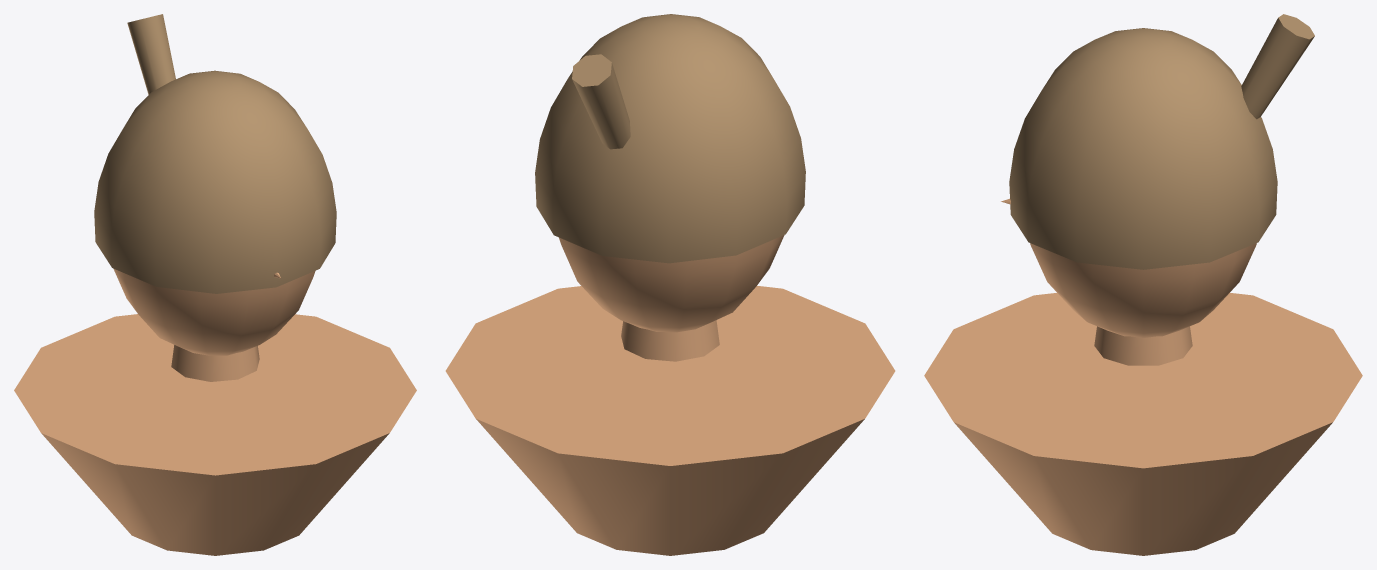
Rendered from portrait15t_003.glb.
The picture shows the model from 3 angles, left to right: view 1: azimuth 30°, elevation 25°; view 2: azimuth 150°, elevation 25°; view 3: azimuth 270°, elevation 25°; orthographic projection. The views are drawn at different scales.
Bounding box in the file's own units: 1.87 × 2.33 × 1.87.
